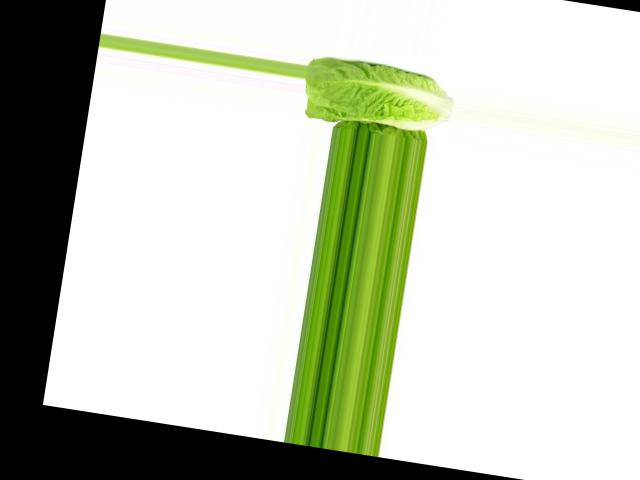lettuce: (298, 43, 458, 137)
